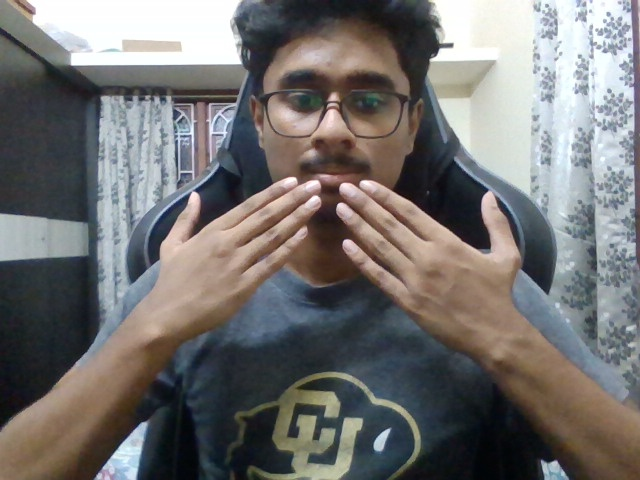thank you: (139, 153, 558, 370)
